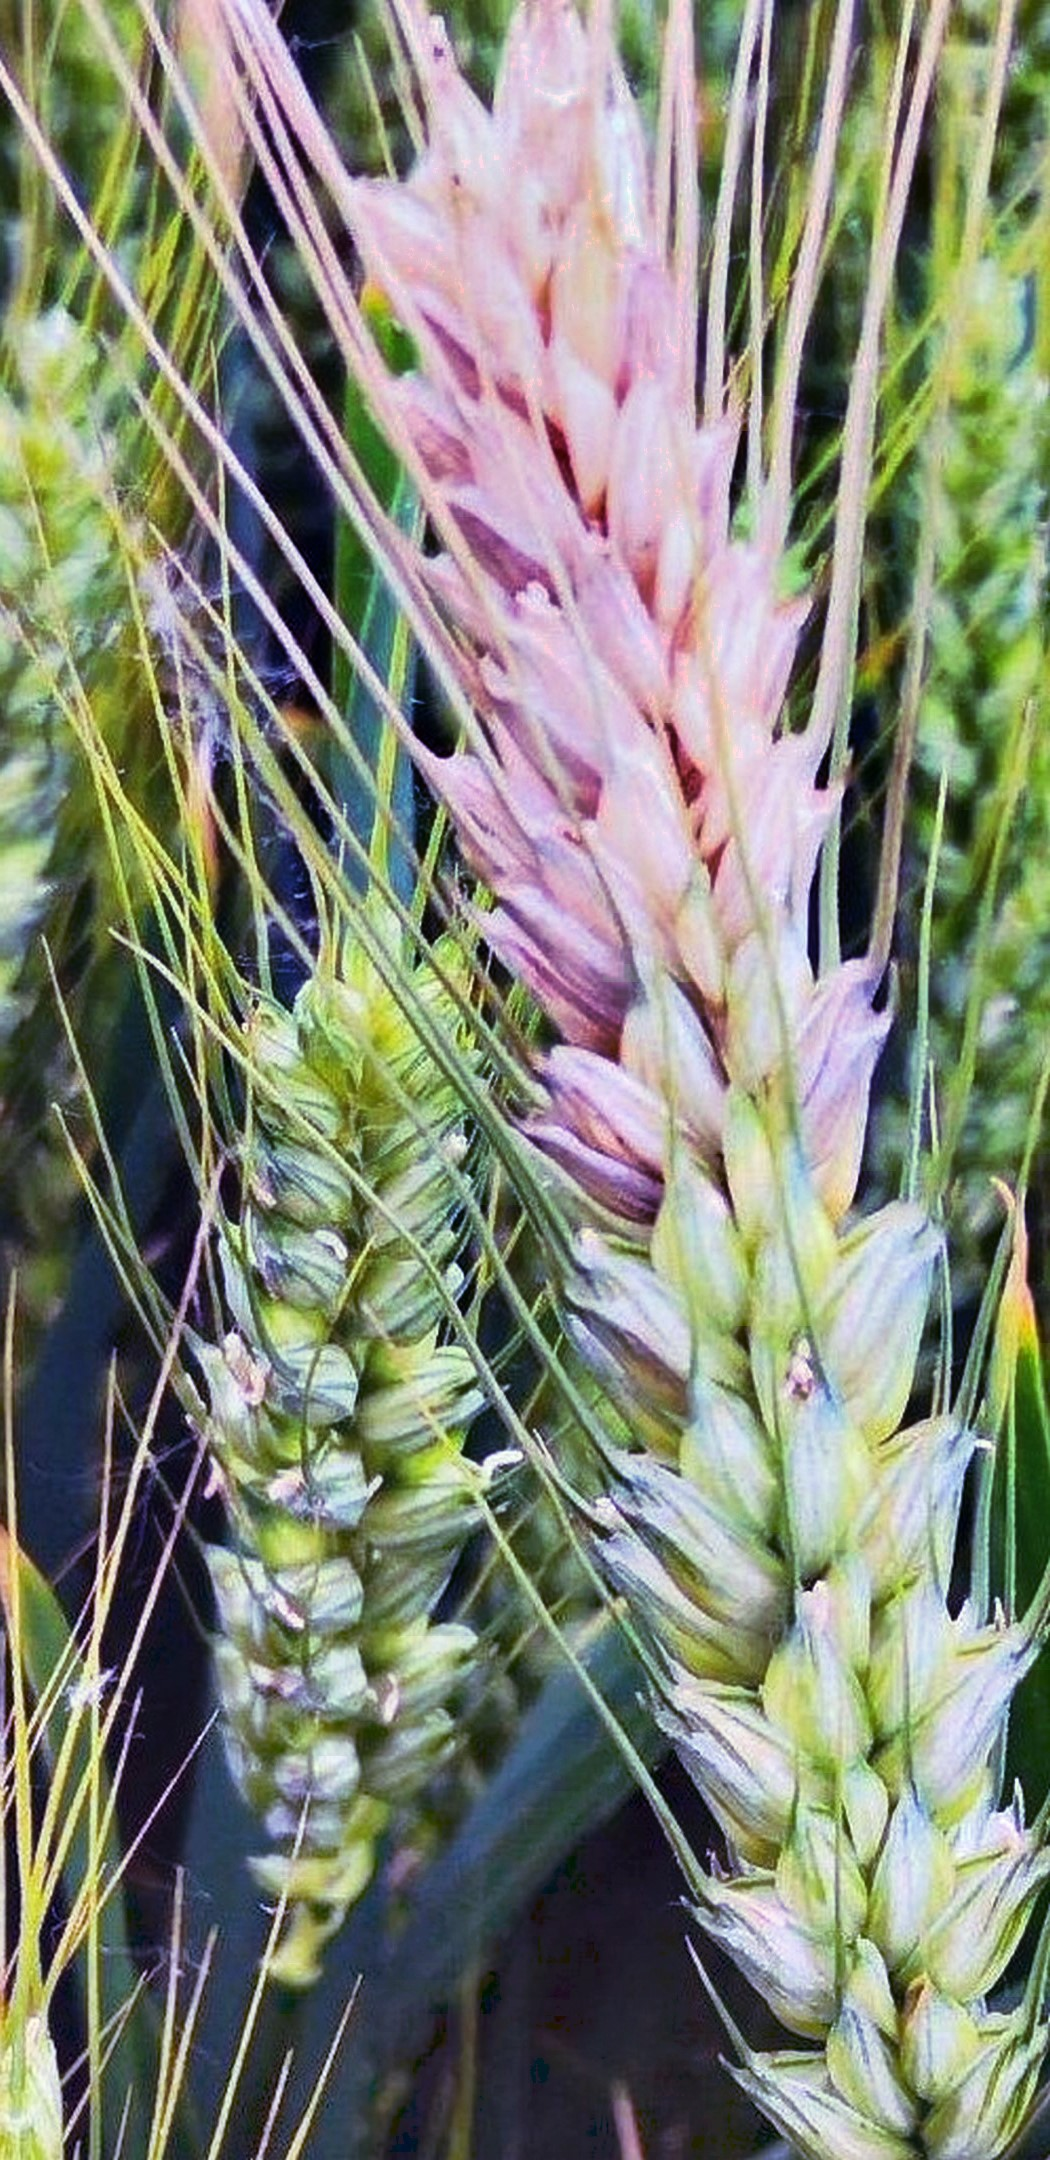Wheat scab: (395, 52, 1050, 1816)
